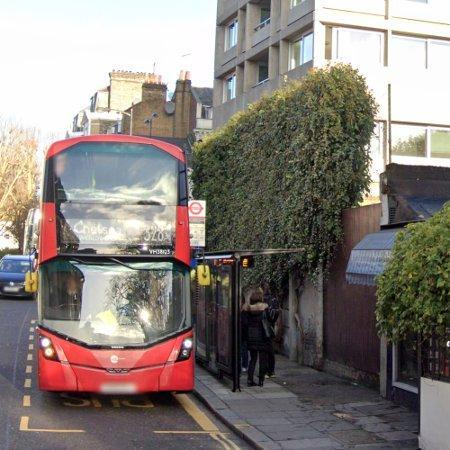buses: (38, 135, 194, 396)
